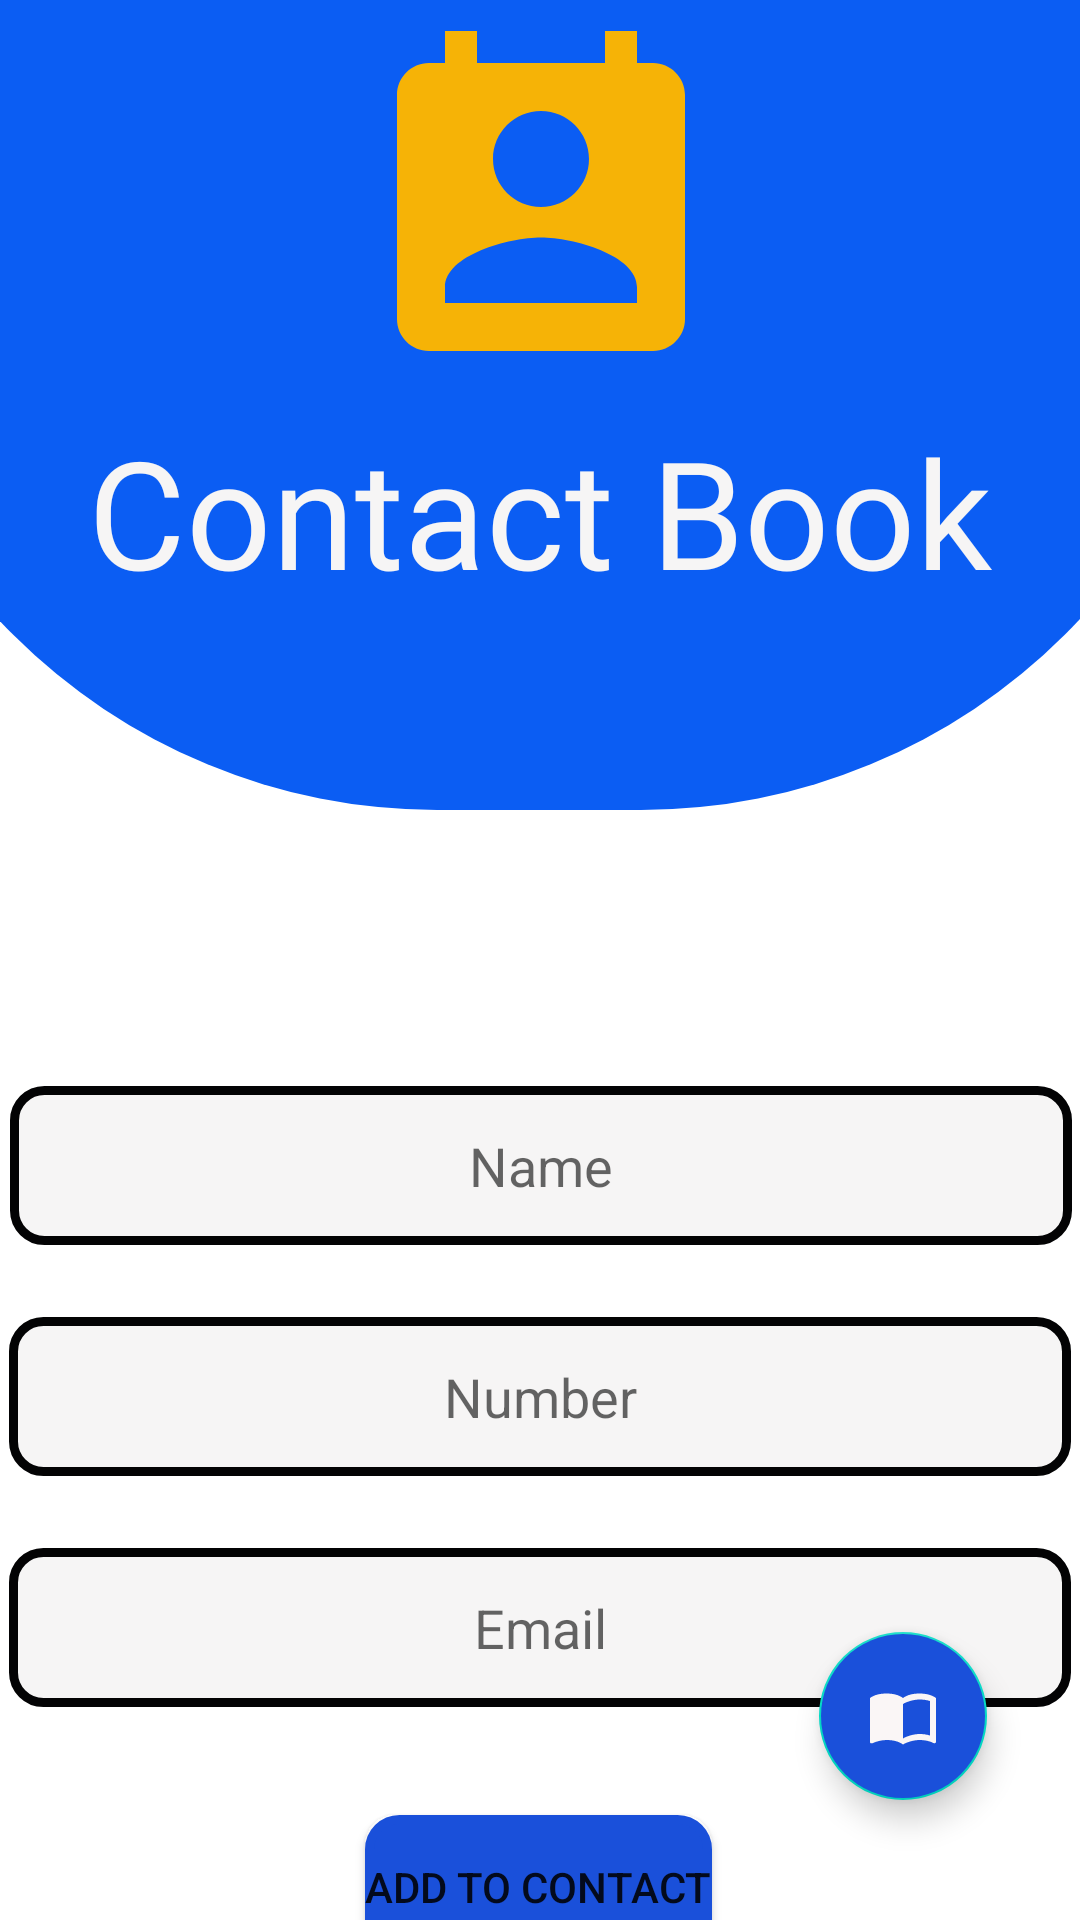

Named icons in this screenshot (1080 x 1920) and their bounding boxes, (x1, y1, x2, y2):
import contacts: (819, 1632, 987, 1800)
perm contact calendar: (397, 31, 685, 351)
